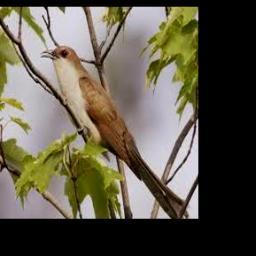Cuckoo: (40, 46, 190, 219)
